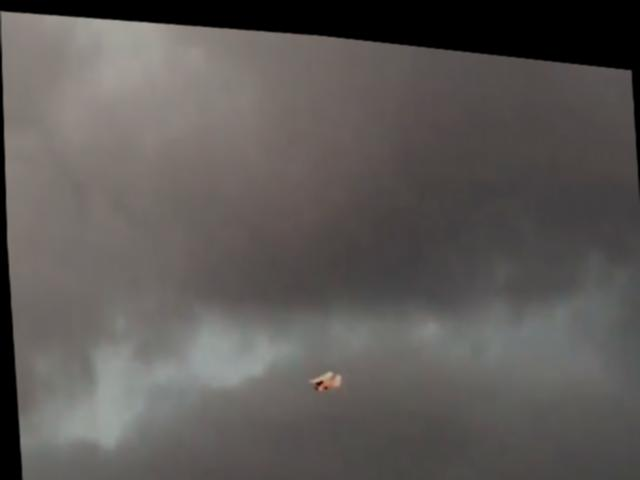plane: (303, 362, 339, 389)
